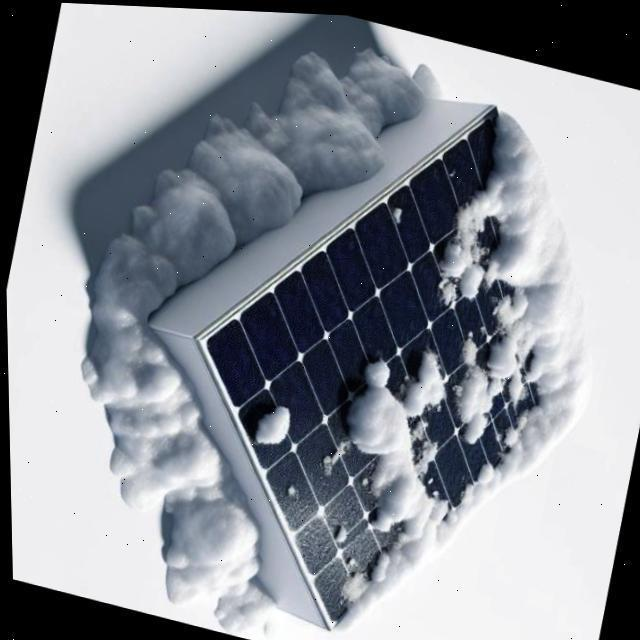Anomaly Solar Panel: (199, 100, 576, 628)
Snow: (433, 101, 591, 513), (282, 340, 454, 631), (252, 397, 291, 446), (328, 519, 347, 542)
